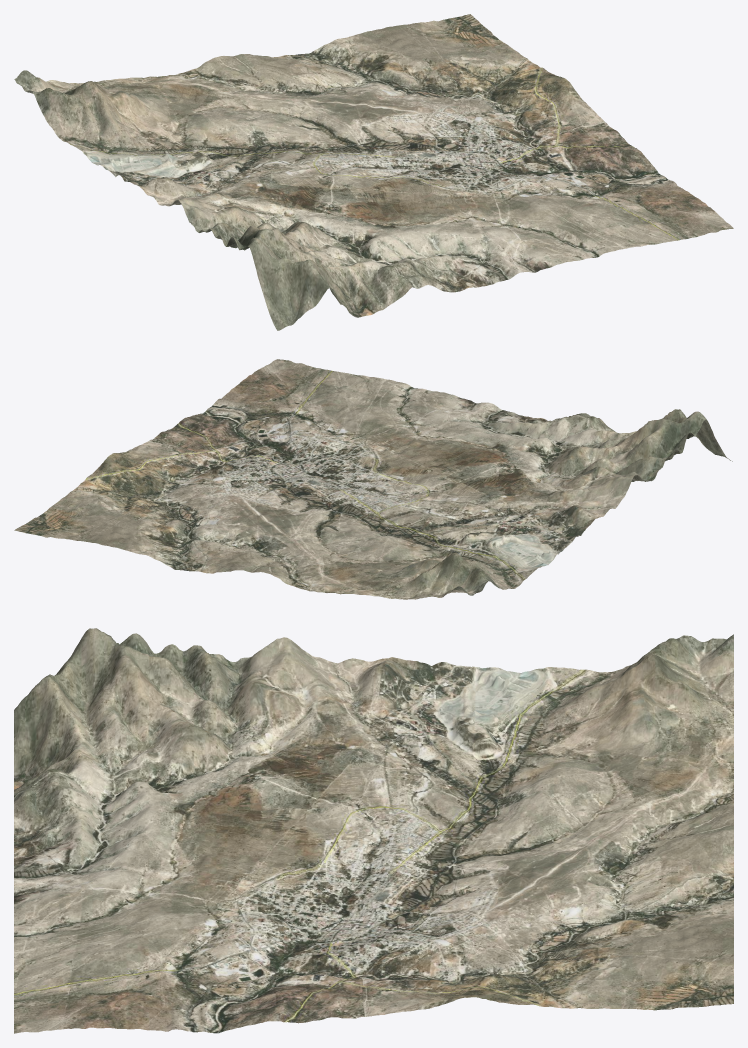
File: modelo_blend.glb
3 renders of one model, top to bottom at view 1: azimuth 30°, elevation 25°; view 2: azimuth 150°, elevation 25°; view 3: azimuth 270°, elevation 25°, orthographic. The views are drawn at different scales.
Parts seen in each view (by area): view 1: DEM_Charcas; view 2: DEM_Charcas; view 3: DEM_Charcas.
Boxes of the visible parts, <box> form: DEM_Charcas: <box>14,14,733,330</box>; DEM_Charcas: <box>14,359,732,599</box>; DEM_Charcas: <box>14,628,733,1033</box>.
Size of the model in its own units: 21.23 by 3.48 by 21.23.
Materials: 1 (1 with a texture image).
